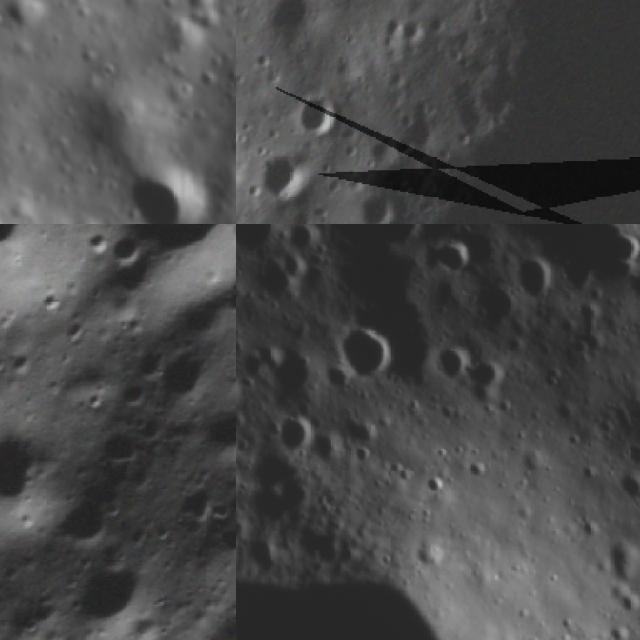crater: (77, 224, 236, 310), (53, 540, 170, 640), (315, 308, 409, 402), (0, 410, 71, 532), (144, 322, 233, 412), (42, 477, 131, 566), (249, 322, 335, 408), (115, 161, 220, 224), (411, 322, 488, 397), (197, 224, 236, 364), (502, 240, 570, 310), (584, 520, 640, 600), (262, 399, 327, 463), (188, 386, 236, 470), (419, 227, 483, 290), (88, 224, 153, 285), (259, 0, 330, 48), (252, 146, 310, 202), (591, 224, 640, 286), (236, 224, 289, 269), (266, 224, 326, 263), (294, 90, 343, 136), (353, 185, 408, 224), (205, 504, 236, 561), (605, 453, 640, 502), (236, 357, 253, 424), (385, 16, 428, 42)
